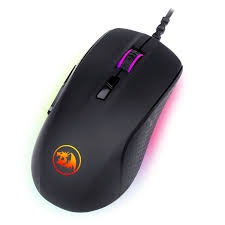mouse: (26, 27, 184, 213)
